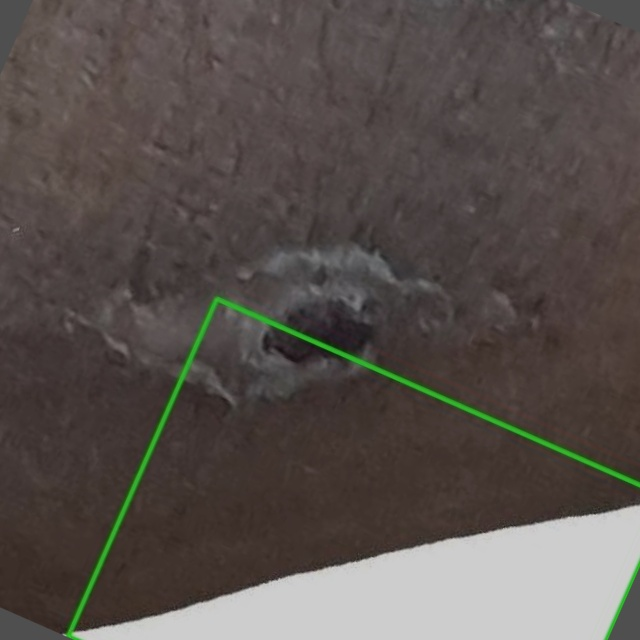Contact Dermatitis: (68, 298, 639, 639)
